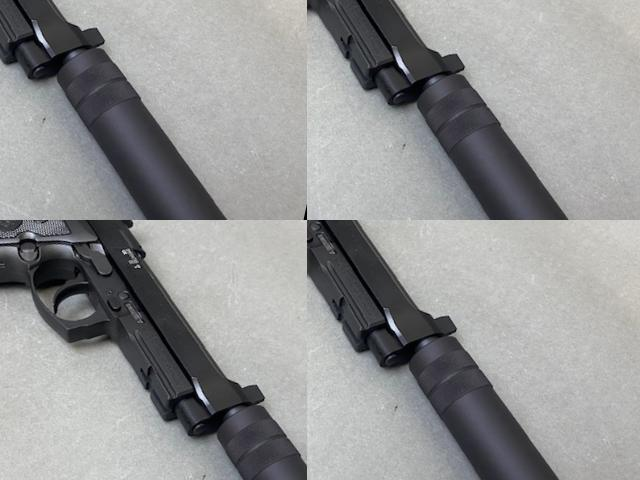handgun: (307, 220, 530, 391), (146, 0, 307, 185), (0, 220, 126, 364), (307, 134, 479, 220)
